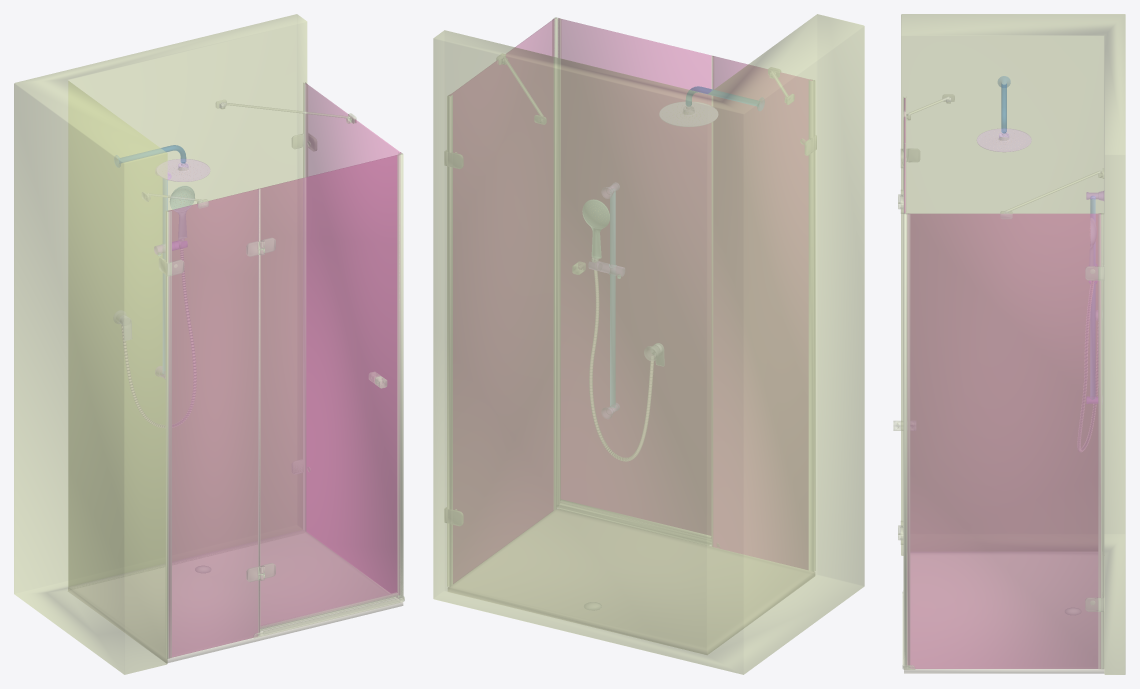
File: washroom.glb
3 views of the same model, side by side, from view 1: azimuth 30°, elevation 25°; view 2: azimuth 150°, elevation 25°; view 3: azimuth 270°, elevation 25° (orthographic). The views are drawn at different scales.
Visible parts, largest first — view 1: Line023, Rectangle002, Rectangle001, Rectangle003, Rectangle024, Line004, Cylinder380, Cylinder379, Sphere001; view 2: Line023, Rectangle002, Rectangle003, Rectangle001, Rectangle024, Line004, Cylinder296, Cylinder380, Cylinder379, Sphere001; view 3: Line023, Rectangle003, Rectangle024, Line004, Cylinder380, Cylinder296, Cylinder379, Line022.
Part boxes in pixels (<box>): Line023: <box>14,14,306,674</box>; Rectangle002: <box>260,154,399,628</box>; Rectangle001: <box>169,189,259,657</box>; Rectangle003: <box>305,83,400,597</box>; Rectangle024: <box>68,530,402,662</box>; Line004: <box>142,82,404,658</box>; Cylinder380: <box>156,159,209,181</box>; Cylinder379: <box>121,249,196,427</box>; Sphere001: <box>170,186,194,239</box>; Line023: <box>433,14,864,674</box>; Rectangle002: <box>558,18,711,535</box>; Rectangle003: <box>450,19,554,583</box>; Rectangle001: <box>712,56,811,569</box>; Rectangle024: <box>448,509,814,654</box>; Line004: <box>444,17,816,586</box>; Cylinder296: <box>610,193,615,405</box>; Cylinder380: <box>659,102,717,126</box>; Cylinder379: <box>589,270,653,461</box>; Sphere001: <box>582,199,609,258</box>; Line023: <box>901,14,1125,674</box>; Rectangle003: <box>907,214,1100,668</box>; Rectangle024: <box>904,552,1103,673</box>; Line004: <box>893,94,1104,669</box>; Cylinder380: <box>977,128,1031,151</box>; Cylinder296: <box>1090,196,1095,396</box>; Cylinder379: <box>1077,281,1097,451</box>; Line022: <box>998,76,1010,133</box>.
Bounding box in the file's own units: 129 × 223 × 90.25.
